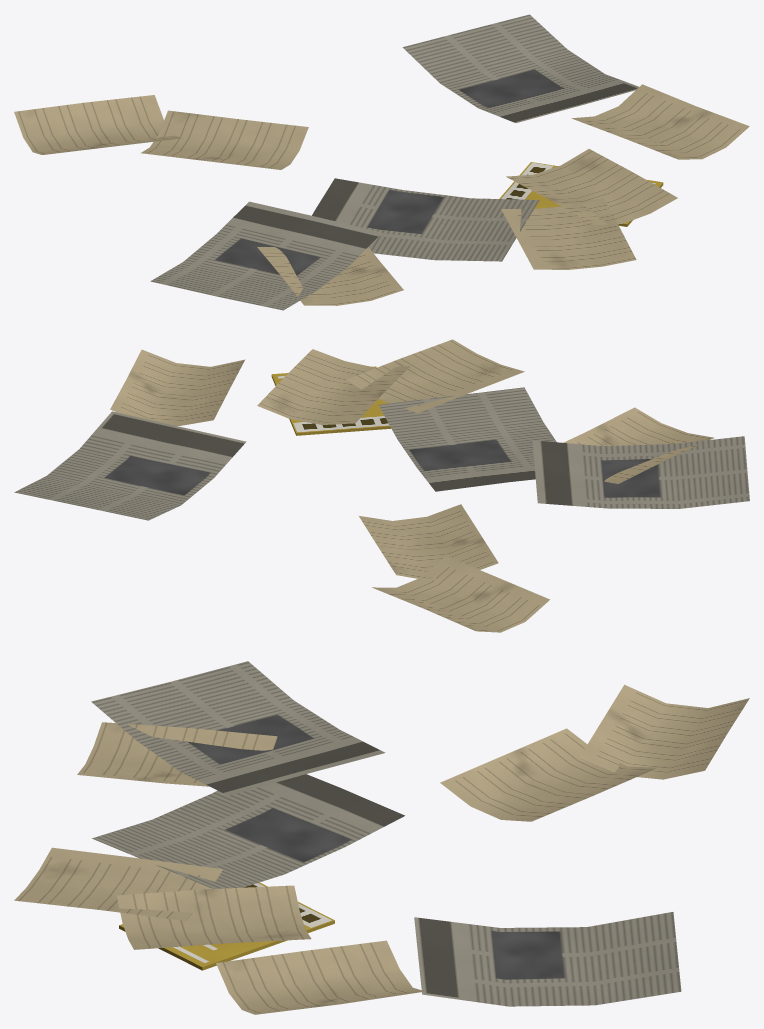
File: Debris_Paper.fbx
3 renders of one model, top to bottom at view 1: azimuth 30°, elevation 25°; view 2: azimuth 150°, elevation 25°; view 3: azimuth 270°, elevation 25°, orthographic. The views are drawn at different scales.
Visible parts, largest first — view 1: Debris_Paper; view 2: Debris_Paper; view 3: Debris_Paper.
Part boxes in pixels (box(x1,y1,x2,y2)): Debris_Paper: box(14, 14, 749, 310); Debris_Paper: box(14, 339, 749, 632); Debris_Paper: box(14, 661, 749, 1014).
Bounding box in the file's own units: 1.38 × 0.0376 × 1.19.
